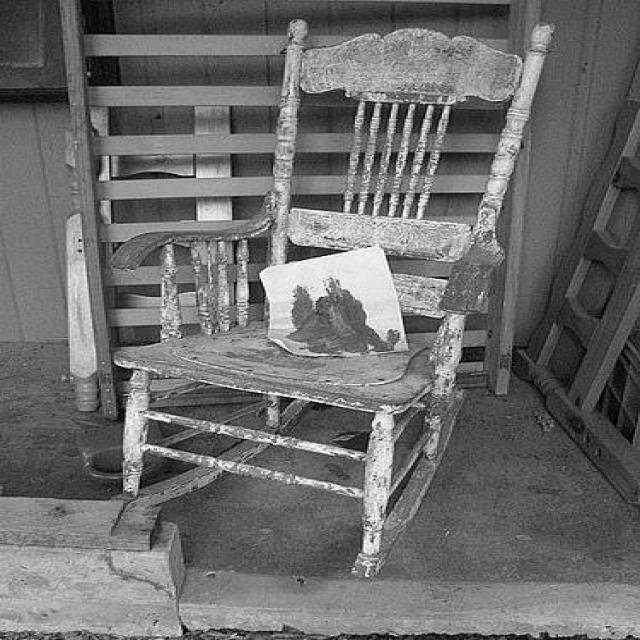chair: (108, 18, 550, 580)
